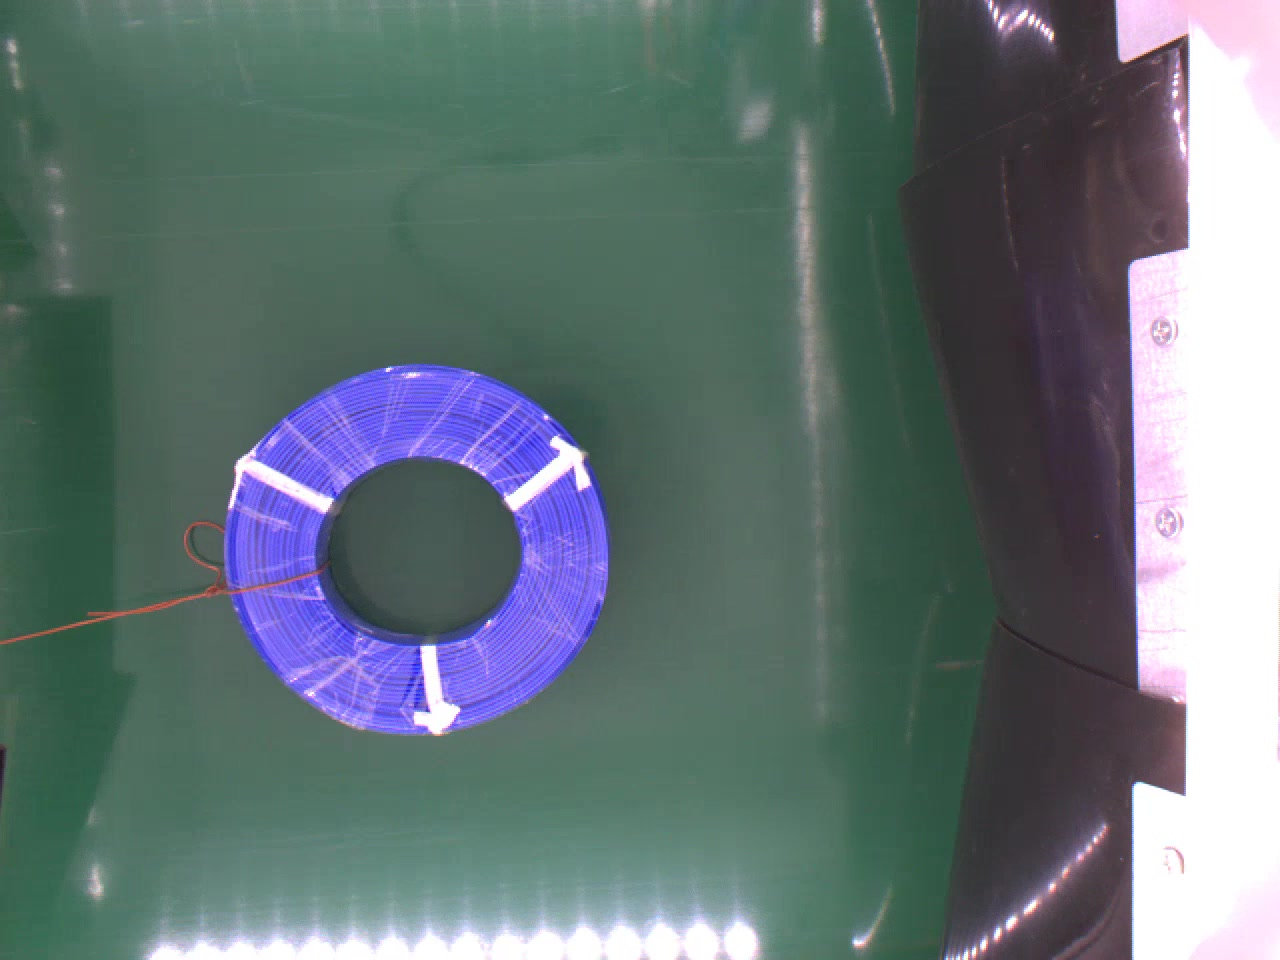blue: (212, 355, 612, 741)
